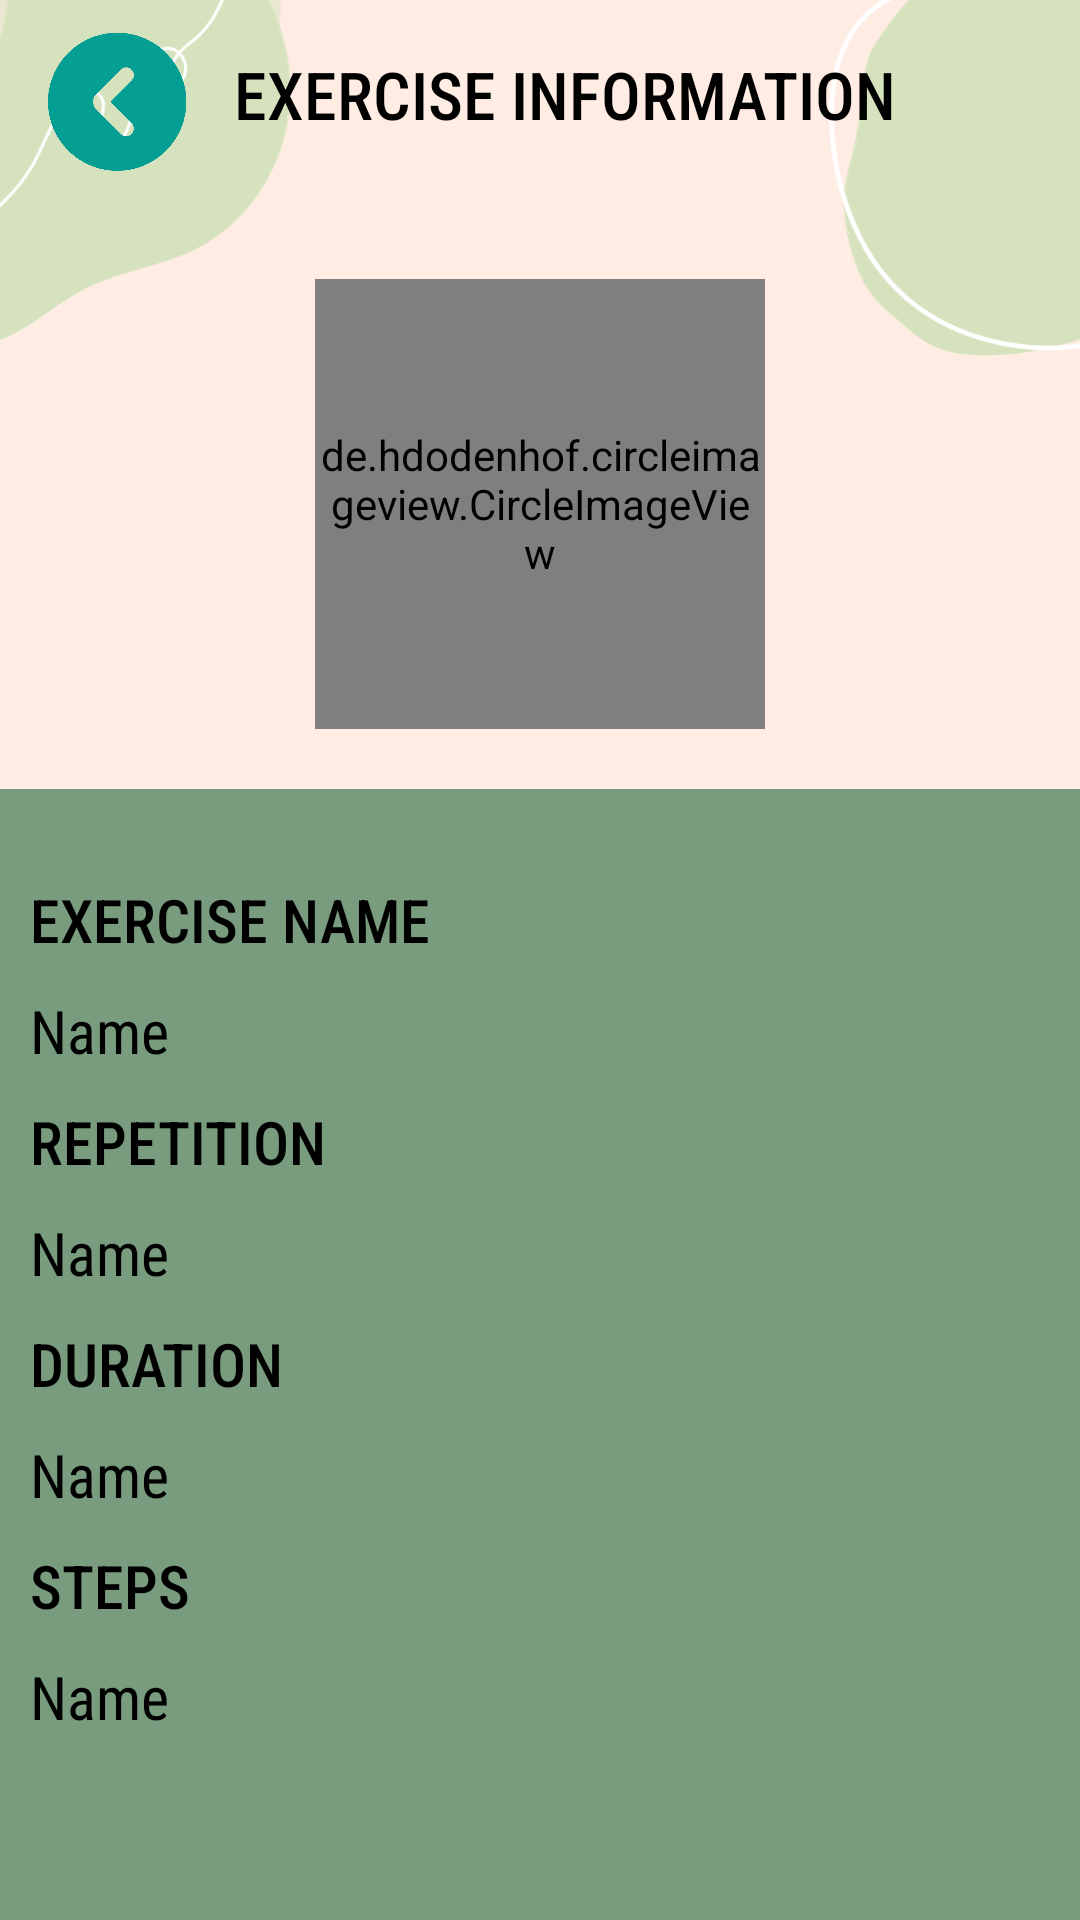

Named icons in this screenshot (1080 × 1920) and their centers, (x,y):
Navigate back: (117,102)
